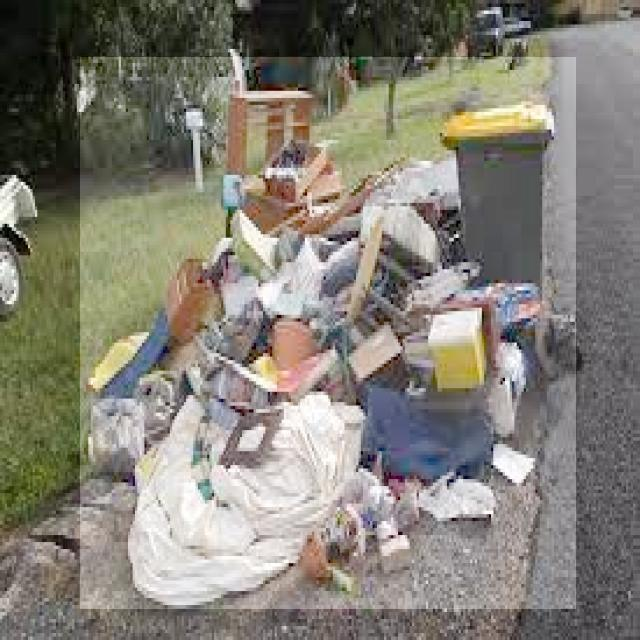dumping: (80, 57, 576, 609)
